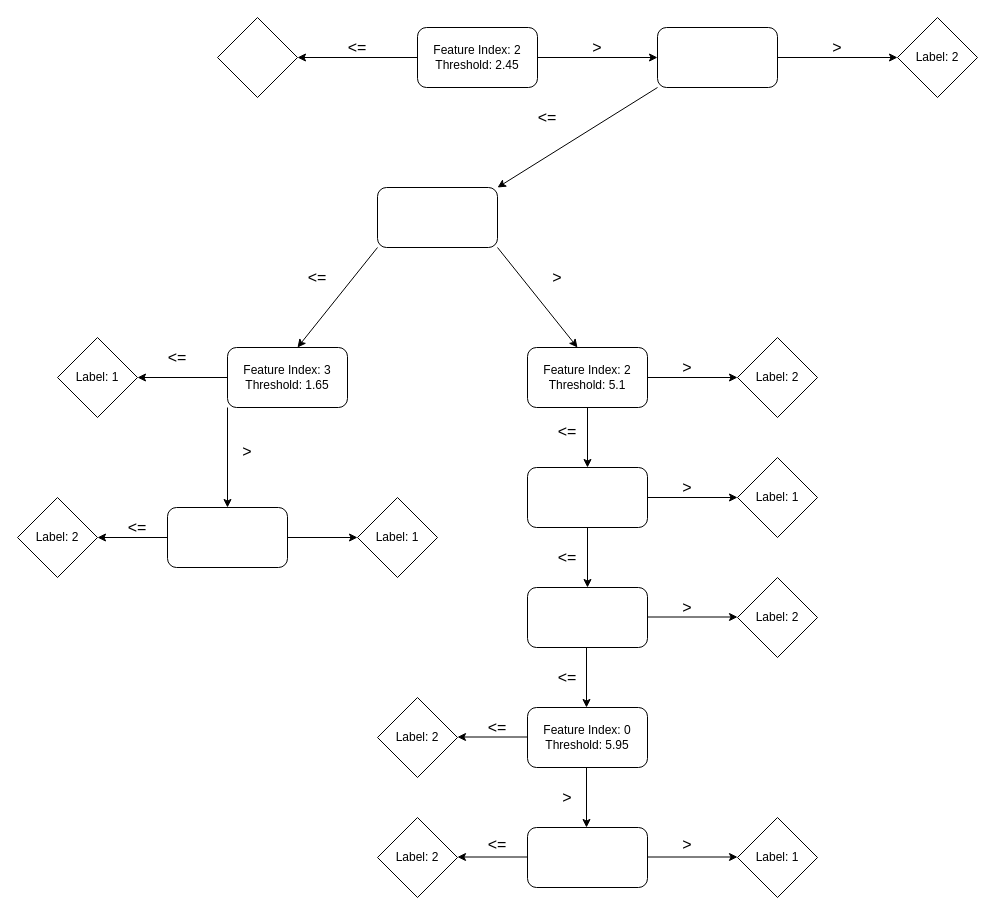
Some shapes in this 995 by 915 pixel diagram are drawn without their labels. Each missing label, with the centre of its shape:
"Feature Index: 0 Threshold: 6.0" belongs at (587,617).
"Feature Index: 0 Threshold: 6.199" belongs at (587,497).
"Feature Index: 1 Threshold: 2.45" belongs at (587,857).
"Feature Index: 1 Threshold: 3.1" belongs at (227,537).
"Feature Index: 2 Threshold: 4.8" belongs at (437,217).
"Feature Index: 3 Threshold: 1.8" belongs at (717,57).
"Label: 0" belongs at (257,57).
